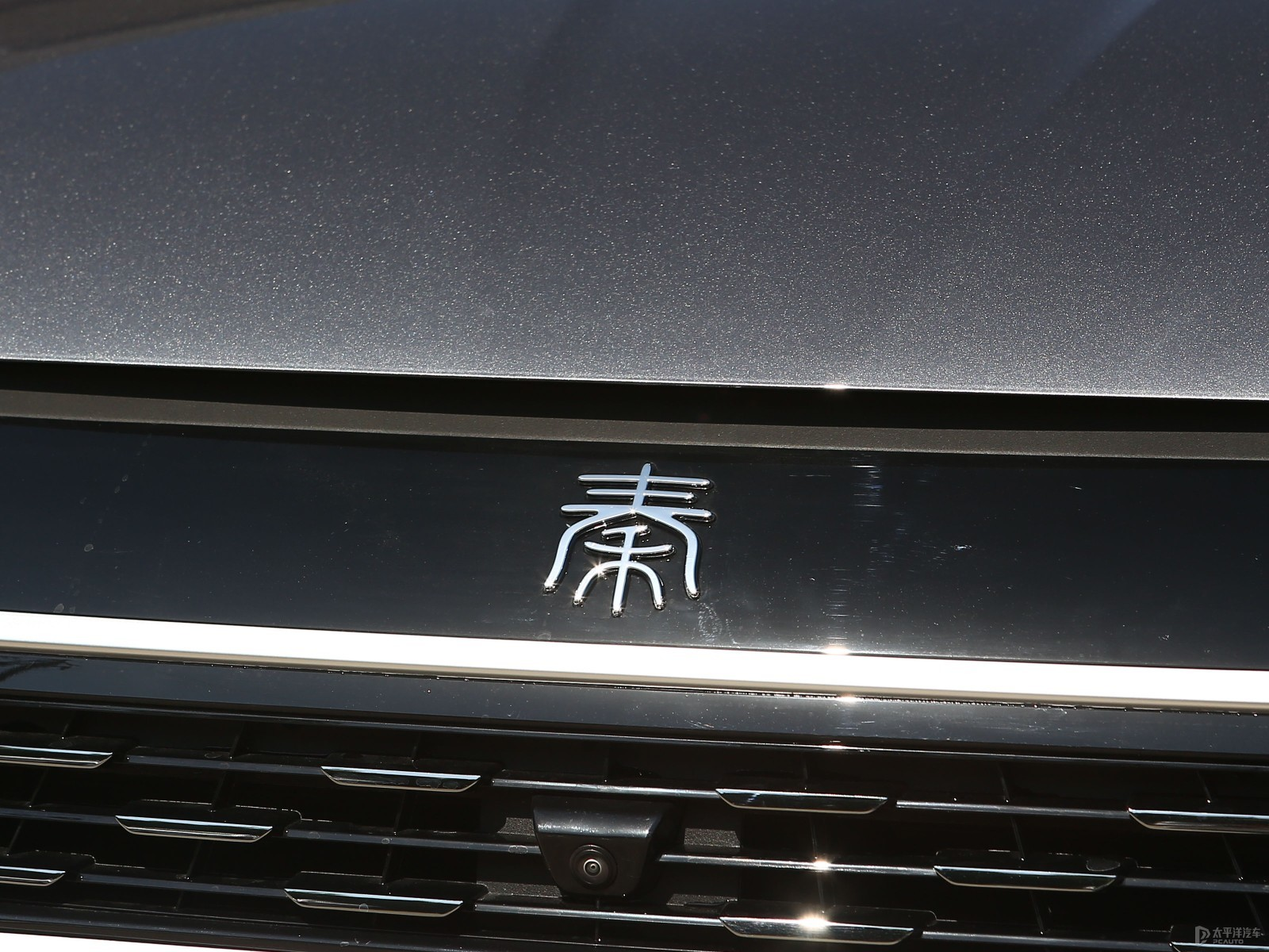BYD Qin: (545, 464, 712, 617)
